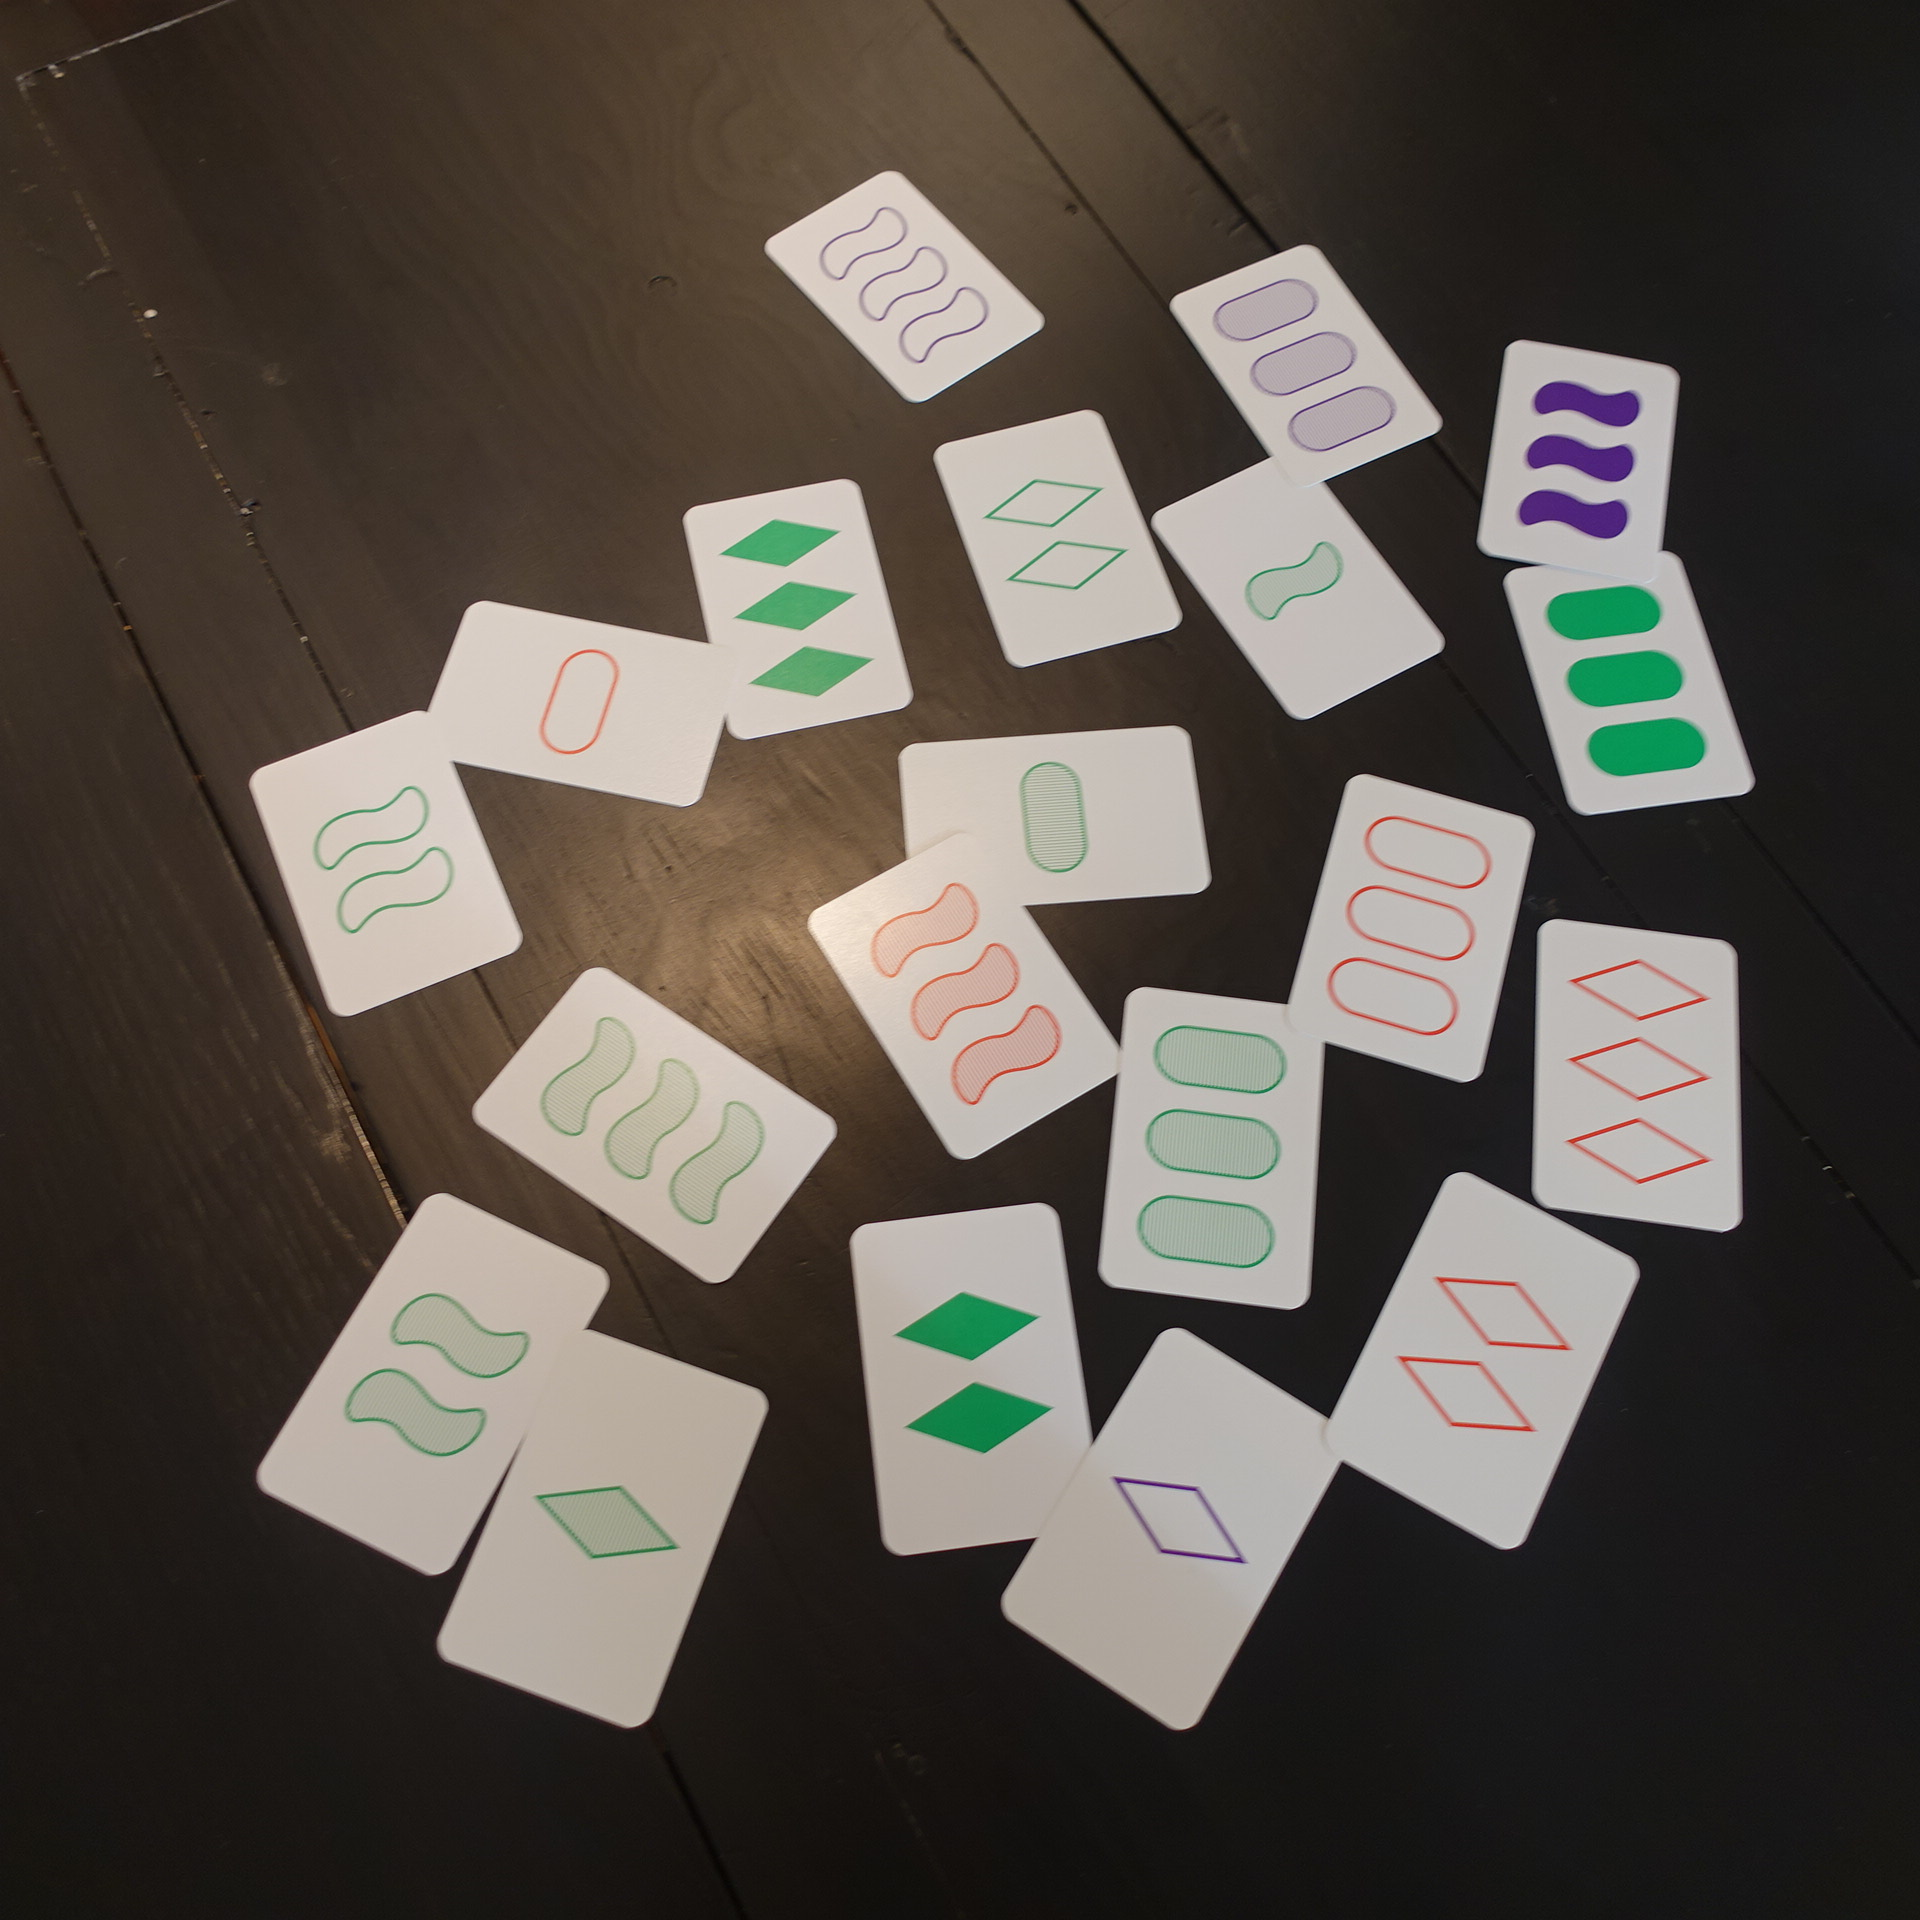c-1-h-d-g: (424, 1313, 775, 1744), (1145, 445, 1454, 733)
c-1-h-o-g: (888, 716, 1224, 920)
c-1-u-d-p: (993, 1320, 1356, 1746)
c-1-u-o-r: (408, 585, 742, 821)
c-2-f-d-g: (833, 1192, 1116, 1567)
c-2-h-d-g: (239, 1183, 624, 1589)
c-2-u-d-g: (229, 702, 535, 1029), (930, 404, 1190, 679)
c-2-u-d-r: (1319, 1160, 1651, 1567)
c-3-f-d-g: (659, 466, 925, 753)
c-3-f-d-p: (1470, 327, 1691, 587)
c-3-f-o-g: (1491, 542, 1764, 825)
c-3-h-d-g: (457, 951, 846, 1299)
c-3-h-d-r: (796, 819, 1136, 1173)
c-3-h-o-g: (1092, 969, 1336, 1319)
c-3-h-o-p: (1153, 236, 1452, 496)
c-3-u-d-p: (754, 162, 1055, 415)
c-3-u-d-r: (1505, 907, 1758, 1247)
c-3-u-o-r: (1284, 760, 1545, 1090)
